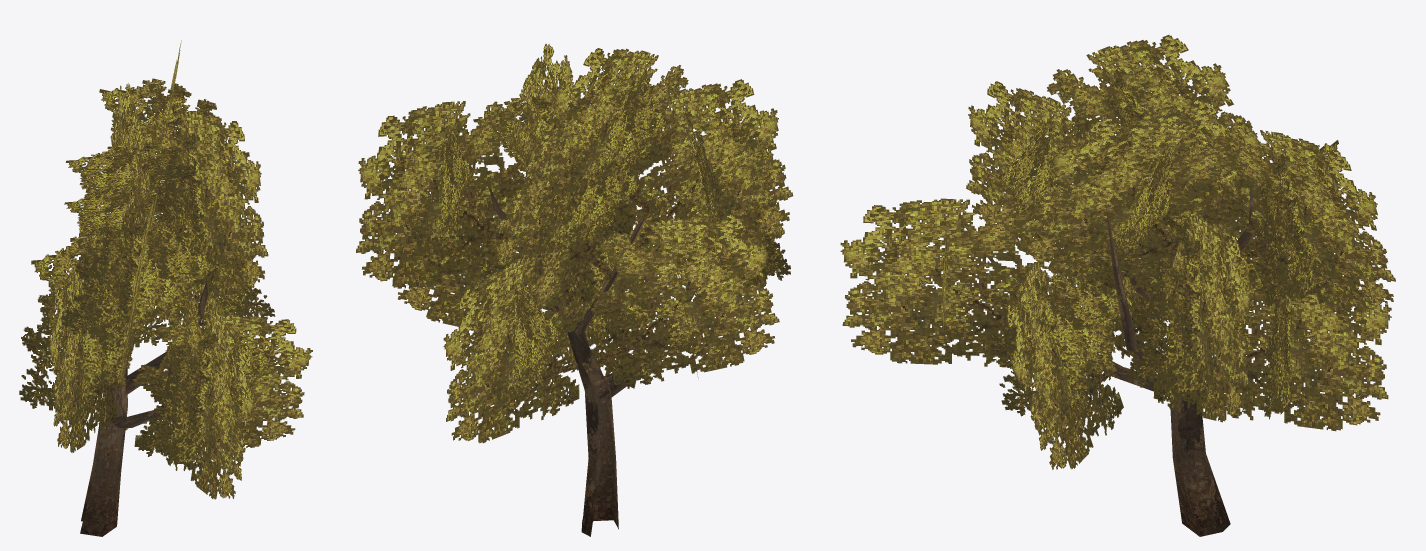
Rendered from stage-maya-p4-86.glb.
3 renders of one model, left to right at view 1: azimuth 30°, elevation 25°; view 2: azimuth 150°, elevation 25°; view 3: azimuth 270°, elevation 25°, orthographic. The views are drawn at different scales.
Size of the model in its own units: 16.92 by 24.87 by 24.69.
3 materials, 3 textured.
